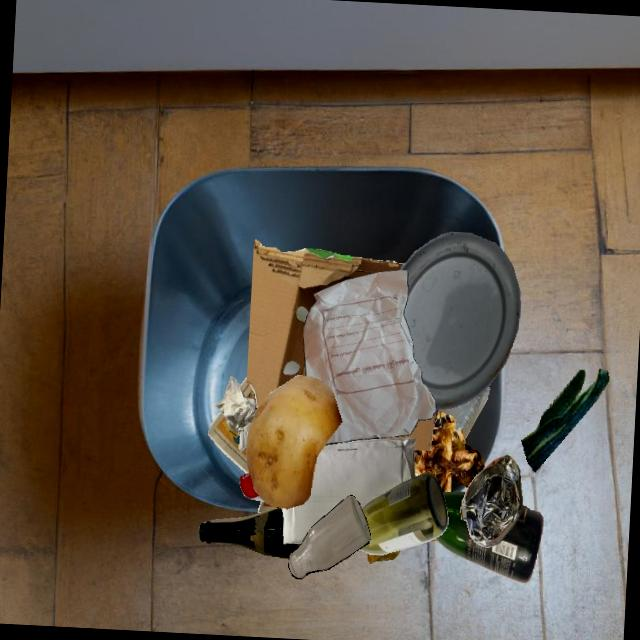biowaste: (246, 375, 342, 509), (521, 369, 609, 472), (414, 411, 485, 492), (367, 549, 401, 564)
cardboard: (247, 240, 405, 409)
glass: (435, 492, 543, 584), (359, 473, 448, 555), (288, 495, 371, 579), (198, 507, 301, 558), (413, 252, 415, 254)
metal: (461, 455, 523, 548)
paper: (303, 270, 436, 445), (282, 438, 417, 544), (216, 376, 256, 452), (234, 393, 261, 501), (208, 412, 250, 474), (239, 473, 265, 503), (258, 501, 281, 513), (248, 384, 257, 412), (240, 376, 247, 393)
plastic: (400, 232, 520, 409), (439, 386, 490, 439)
